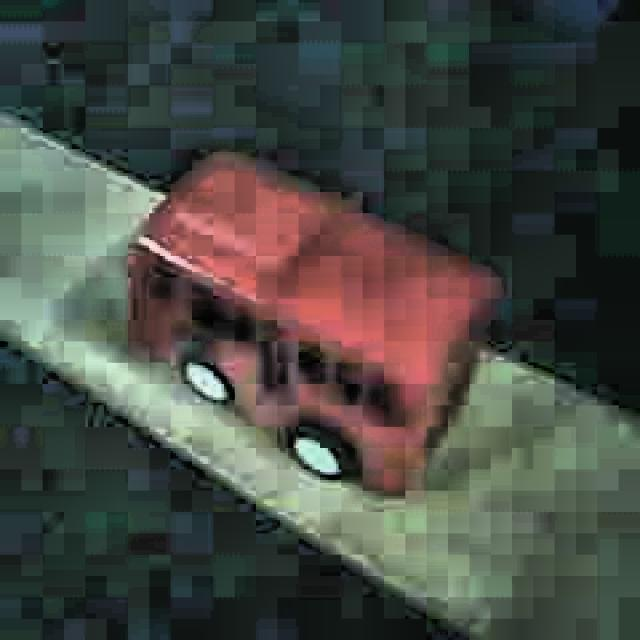bus: (124, 150, 494, 500)
